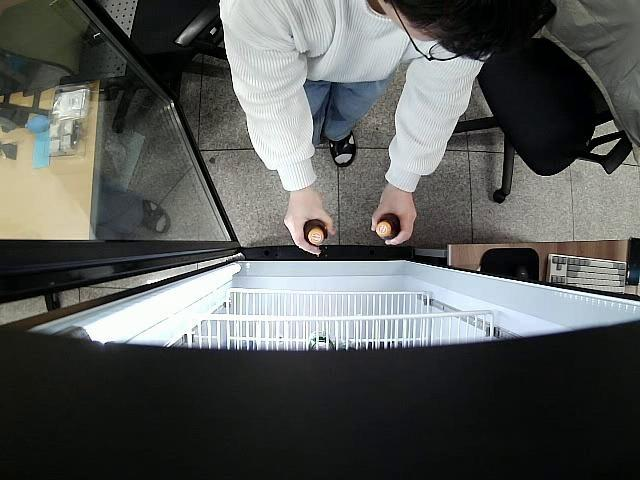17_vita500: (374, 213, 402, 242), (304, 220, 329, 246)
